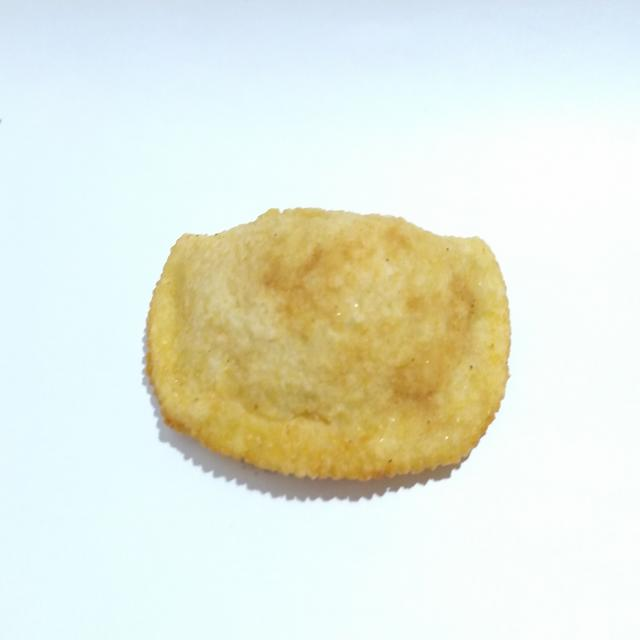Food: (136, 196, 522, 506)
